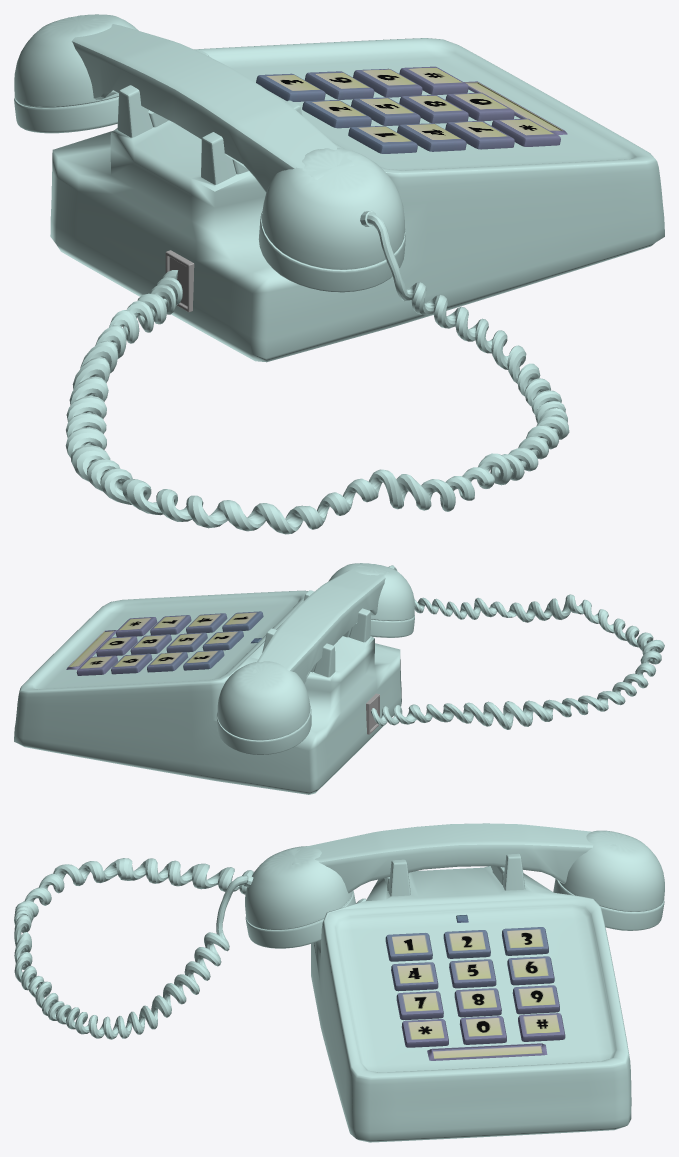
Rendered from Phone.fbx.
The picture shows the model from 3 angles, top to bottom: view 1: azimuth 30°, elevation 25°; view 2: azimuth 150°, elevation 25°; view 3: azimuth 270°, elevation 25°; orthographic projection. The views are drawn at different scales.
Parts seen in each view (by area): view 1: pCube59, polySurface3, pHelix3, pCube70, pCube69, pCube60, pCube65, pCube62, pCube63, pCube61, pCube64, pCube71 (+5 smaller); view 2: pCube59, polySurface3, pHelix3, pCube63, pCube62, pCube61, pCube64, pCube68, pCube71, pCube65, pCube67, pCube60 (+5 smaller); view 3: pCube59, polySurface3, pHelix3, pCube72, pCube64, pCube61, pCube63, pCube62, pCube65, pCube70, pCube60, pCube69 (+4 smaller).
Part boxes in pixels (box(x1,y1,x2,y2)): pCube59: box(50, 38, 664, 362); polySurface3: box(14, 14, 405, 292); pHelix3: box(65, 211, 569, 534); pCube70: box(302, 100, 371, 128); pCube69: box(348, 126, 417, 153); pCube60: box(397, 123, 466, 151); pCube65: box(445, 121, 514, 149); pCube62: box(305, 71, 374, 99); pCube63: box(353, 68, 422, 97); pCube61: box(351, 97, 420, 125); pCube64: box(399, 95, 468, 123); pCube71: box(256, 73, 325, 101); pCube59: box(14, 590, 401, 794); polySurface3: box(216, 563, 414, 754); pHelix3: box(371, 565, 664, 729); pCube63: box(111, 653, 152, 674); pCube62: box(147, 652, 188, 672); pCube61: box(166, 632, 207, 652); pCube64: box(130, 634, 171, 654); pCube68: box(116, 617, 157, 637); pCube71: box(183, 650, 224, 670); pCube65: box(150, 615, 191, 635); pCube67: box(96, 636, 137, 656); pCube60: box(186, 613, 227, 633); pCube59: box(311, 853, 631, 1142); polySurface3: box(245, 823, 664, 948); pHelix3: box(14, 858, 366, 1039); pCube72: box(427, 1043, 547, 1060); pCube64: box(454, 988, 501, 1017); pCube61: box(449, 959, 496, 988); pCube63: box(512, 985, 559, 1014); pCube62: box(507, 956, 554, 985); pCube65: box(396, 991, 443, 1019); pCube70: box(443, 930, 490, 958); pCube60: box(391, 962, 438, 991); pCube69: box(385, 933, 432, 961).
Bounding box in the file's own units: 145 × 43.33 × 152.
